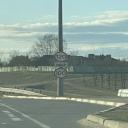speed_limit_100: (52, 66, 71, 80)
speed_limit_120: (53, 49, 70, 63)
